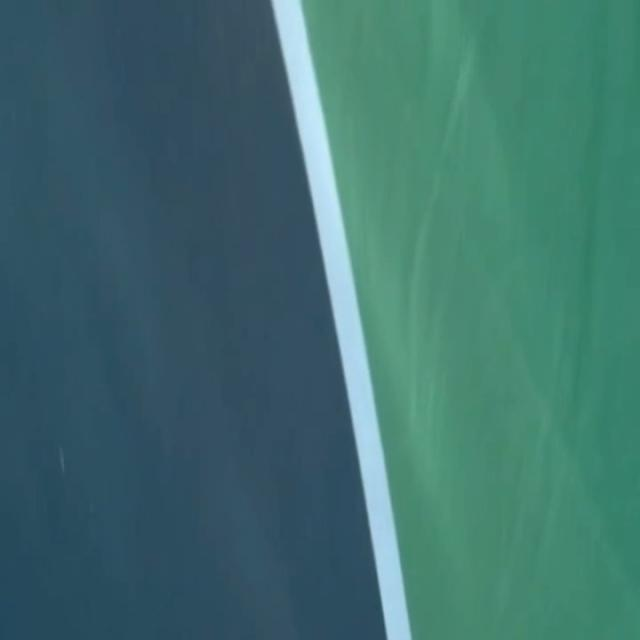right: (271, 0, 411, 639)
